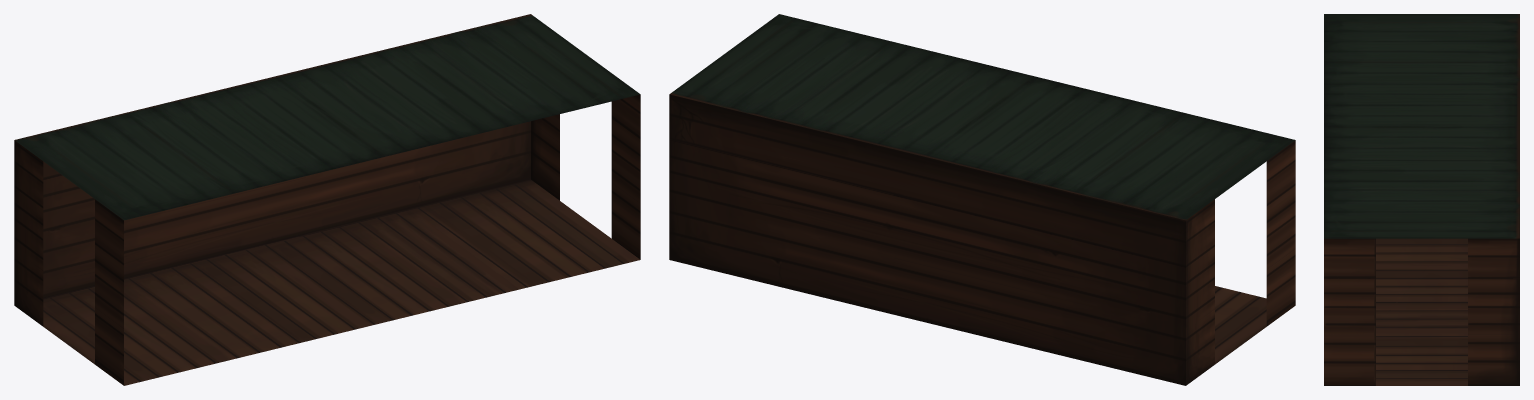
File: Carriage.fbx
3 renders of one model, left to right at view 1: azimuth 30°, elevation 25°; view 2: azimuth 150°, elevation 25°; view 3: azimuth 270°, elevation 25°, orthographic. The views are drawn at different scales.
Parts seen in each view (by area): view 1: Carriage; view 2: Carriage; view 3: Carriage.
Boxes of the visible parts, <box> form: Carriage: <box>14,14,640,385</box>; Carriage: <box>669,14,1295,385</box>; Carriage: <box>1324,14,1519,385</box>.
Size of the model in its own units: 110 by 33.73 by 40.6.
